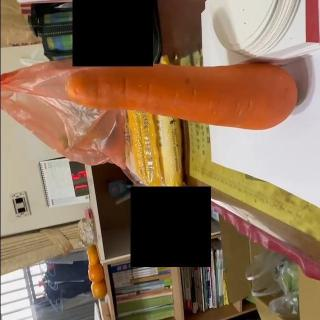carrot: (65, 62, 299, 132)
